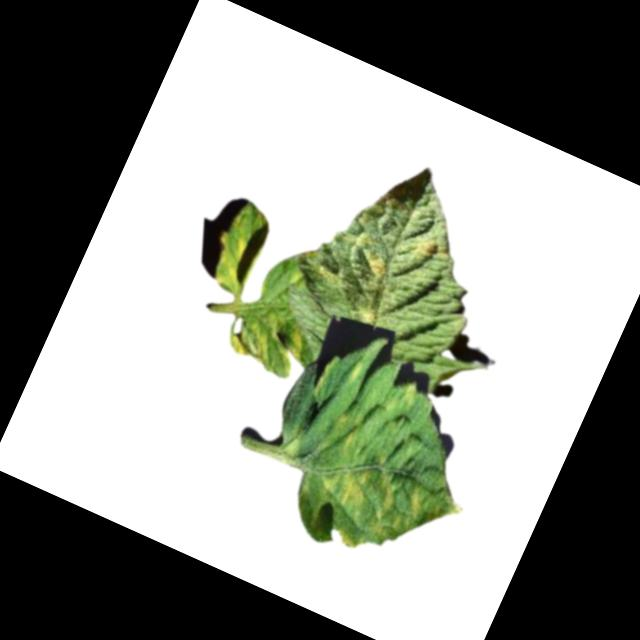Leaf_Mold: (290, 410, 480, 584), (216, 298, 312, 381), (202, 201, 275, 299), (405, 228, 453, 269), (350, 242, 395, 282), (353, 301, 380, 325)
